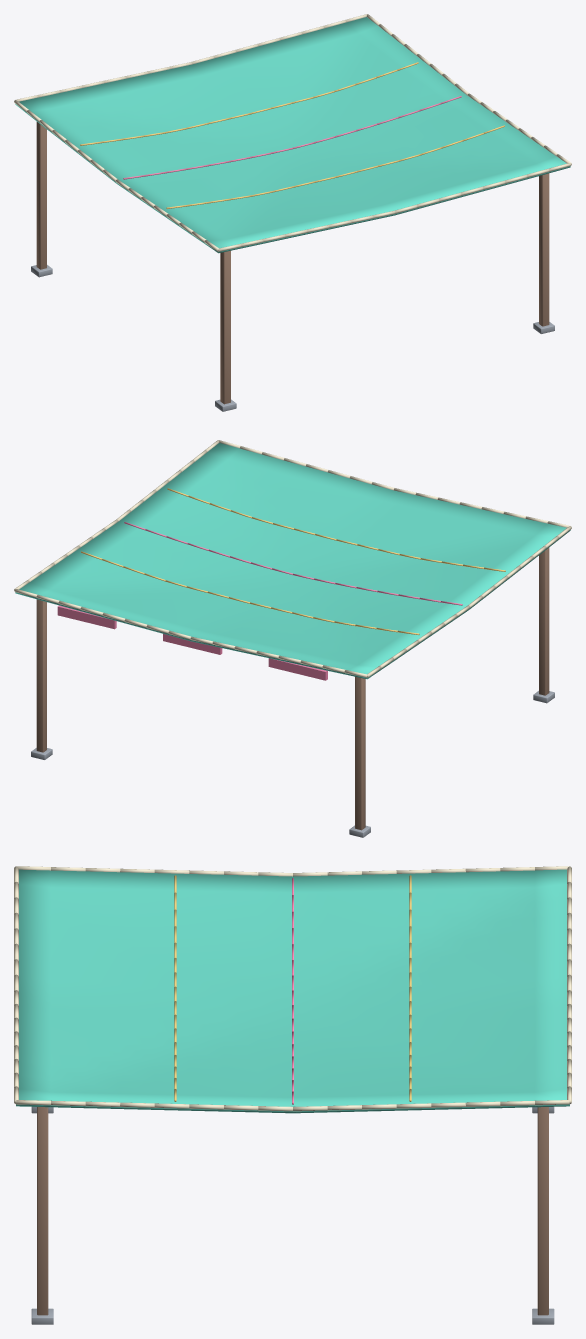
File: FestivalCampShade.fbx
3 views of the same model, one above another, from view 1: azimuth 30°, elevation 25°; view 2: azimuth 150°, elevation 25°; view 3: azimuth 270°, elevation 25° (orthographic). The views are drawn at different scales.
Visible parts, largest first — view 1: FestivalCampShade CanvasMint__CanvasMint, FestivalCampShade Wood__Wood, FestivalCampShade CanvasCream__CanvasCream, FestivalCampShade CanvasGold__CanvasGold, FestivalCampShade CanvasRose__CanvasRose, FestivalCampShade Metal__Metal; view 2: FestivalCampShade CanvasMint__CanvasMint, FestivalCampShade Wood__Wood, FestivalCampShade CanvasCream__CanvasCream, FestivalCampShade CanvasRose__CanvasRose, FestivalCampShade CanvasGold__CanvasGold, FestivalCampShade Metal__Metal; view 3: FestivalCampShade CanvasMint__CanvasMint, FestivalCampShade CanvasCream__CanvasCream, FestivalCampShade Wood__Wood, FestivalCampShade CanvasGold__CanvasGold, FestivalCampShade Metal__Metal.
Part boxes in pixels (x1,y1,x2,y2): FestivalCampShade CanvasMint__CanvasMint: (15, 17, 570, 253); FestivalCampShade Wood__Wood: (36, 122, 549, 404); FestivalCampShade CanvasCream__CanvasCream: (14, 14, 571, 251); FestivalCampShade CanvasGold__CanvasGold: (80, 62, 504, 208); FestivalCampShade CanvasRose__CanvasRose: (123, 96, 461, 179); FestivalCampShade Metal__Metal: (31, 265, 554, 411); FestivalCampShade CanvasMint__CanvasMint: (15, 443, 570, 679); FestivalCampShade Wood__Wood: (36, 548, 549, 830); FestivalCampShade CanvasCream__CanvasCream: (14, 440, 571, 677); FestivalCampShade CanvasRose__CanvasRose: (57, 522, 462, 680); FestivalCampShade CanvasGold__CanvasGold: (81, 488, 505, 634); FestivalCampShade Metal__Metal: (31, 691, 554, 837); FestivalCampShade CanvasMint__CanvasMint: (16, 869, 569, 1113); FestivalCampShade CanvasCream__CanvasCream: (14, 866, 571, 1111); FestivalCampShade Wood__Wood: (37, 1107, 548, 1315); FestivalCampShade CanvasGold__CanvasGold: (174, 875, 411, 1101); FestivalCampShade Metal__Metal: (31, 1107, 554, 1324).
Size of the model in its own units: 807 by 369 by 807.
